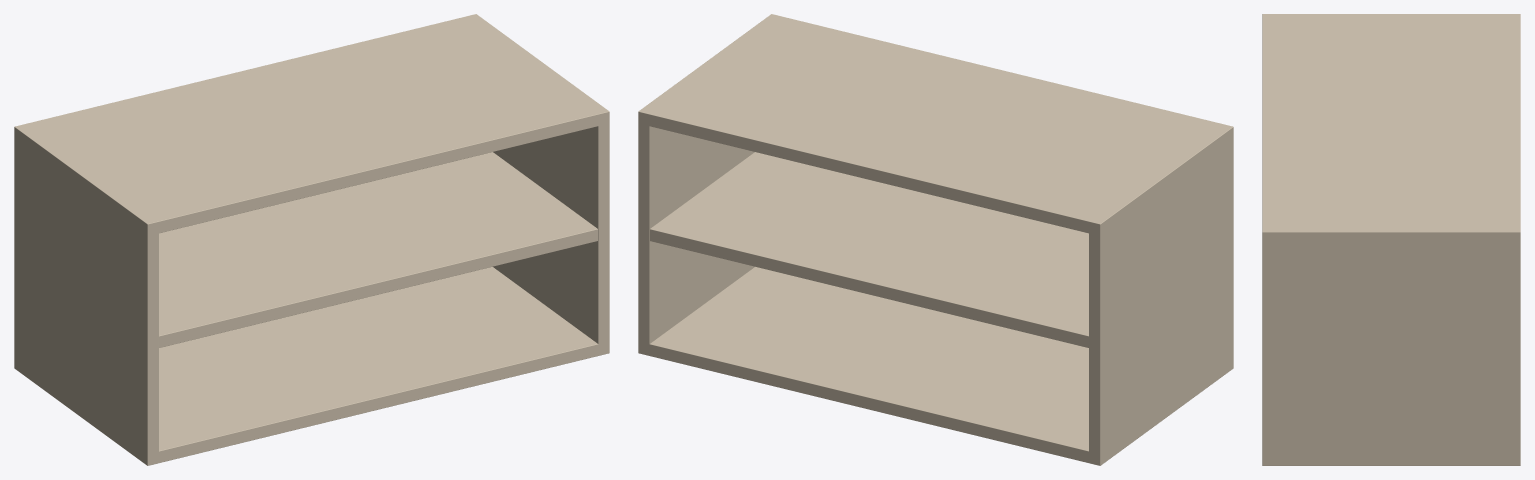
The model's file is MOD-2X1-S-O-AR.glb.
3 views of the same model, side by side, from view 1: azimuth 30°, elevation 25°; view 2: azimuth 150°, elevation 25°; view 3: azimuth 270°, elevation 25° (orthographic). The views are drawn at different scales.
Size of the model in its own units: 720 by 360 by 360.
